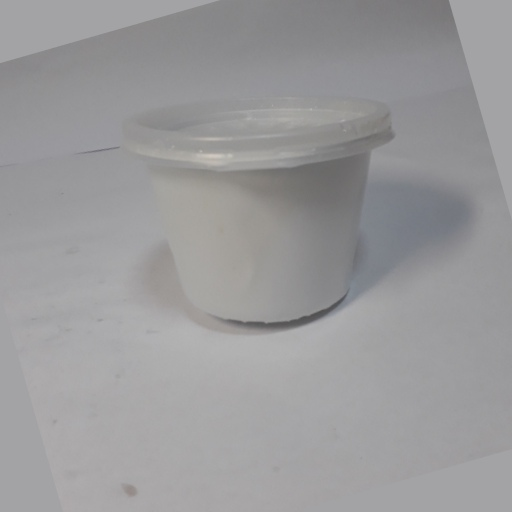Plastic_5: (123, 94, 396, 330)
